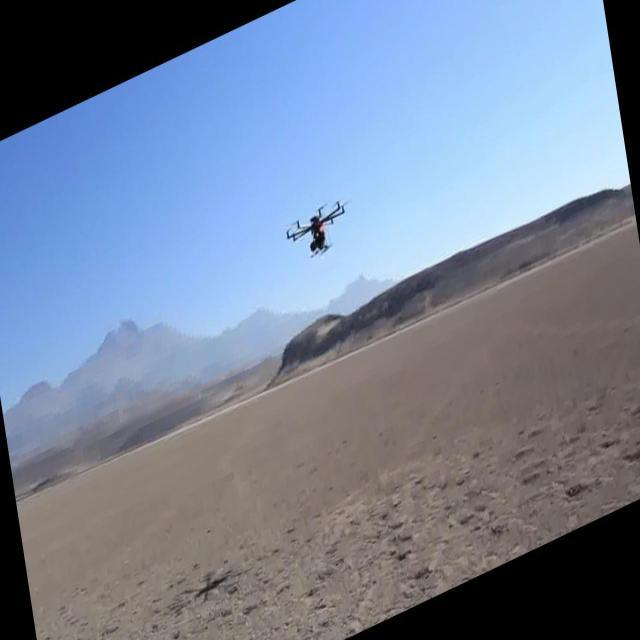drone: (281, 188, 353, 274)
